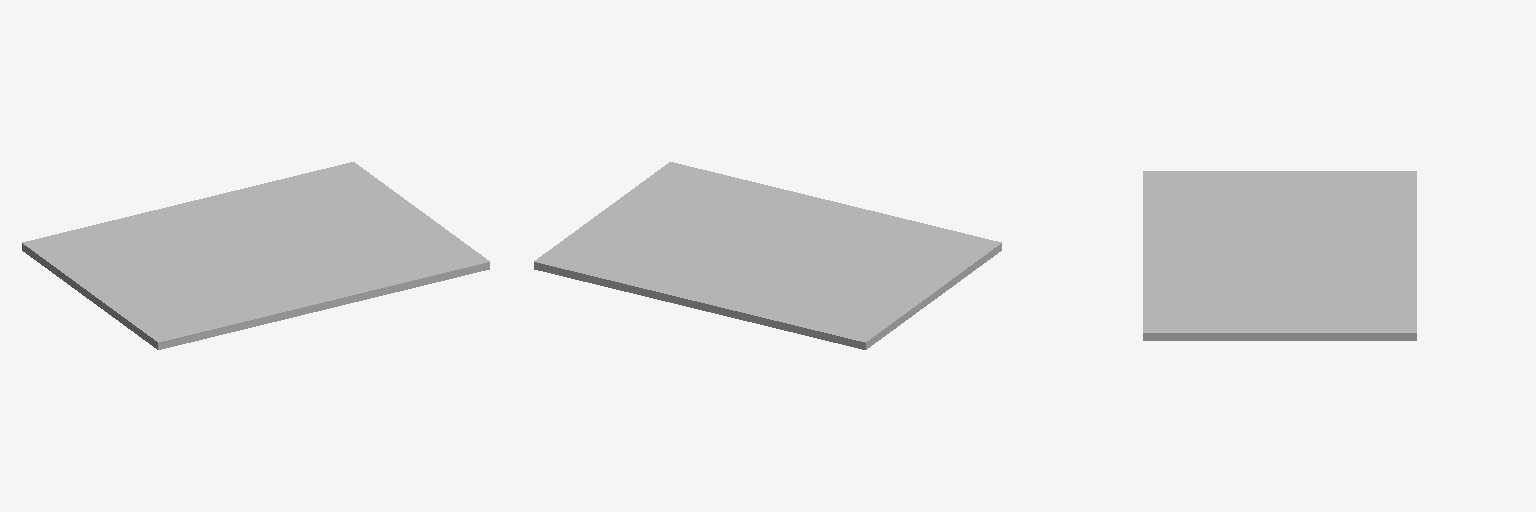
Rendered from box-floor-plan.obj.
3 renders of one model, left to right at view 1: azimuth 30°, elevation 25°; view 2: azimuth 150°, elevation 25°; view 3: azimuth 270°, elevation 25°, orthographic.
Visible parts, largest first — view 1: object_7, object_4, object_6, object_2, object_9, object_3, object_11, object_8, object_1, object_21, object_15; view 2: object_3, object_4, object_2, object_5, object_9, object_8, object_15, object_6, object_1, object_17; view 3: object_4, object_1, object_5, object_3, object_12, object_9, object_7, object_8, object_14, object_2, object_10, object_6 (+1 smaller).
Part boxes in pixels (x1,y1,x2,y2): object_7: (48, 173, 458, 330); object_4: (22, 162, 489, 349); object_6: (73, 167, 474, 336); object_2: (57, 176, 406, 321); object_9: (89, 196, 421, 290); object_3: (29, 166, 481, 338); object_11: (109, 213, 303, 306); object_8: (166, 185, 384, 283); object_1: (48, 171, 419, 331); object_21: (214, 241, 312, 275); object_15: (157, 213, 336, 271); object_3: (541, 165, 993, 339); object_4: (534, 162, 1001, 349); object_2: (623, 177, 965, 328); object_5: (578, 180, 957, 294); object_9: (604, 199, 935, 281); object_8: (608, 185, 943, 319); object_15: (718, 248, 872, 291); object_6: (642, 168, 987, 336); object_1: (640, 173, 979, 334); object_17: (759, 242, 852, 284); object_4: (1143, 171, 1416, 340); object_1: (1158, 177, 1404, 324); object_5: (1172, 184, 1389, 318); object_3: (1148, 174, 1413, 330); object_12: (1205, 203, 1354, 299); object_9: (1188, 203, 1369, 310); object_7: (1162, 182, 1399, 322); object_8: (1180, 189, 1378, 314); object_14: (1217, 215, 1343, 292); object_2: (1169, 182, 1392, 320); object_10: (1194, 203, 1364, 306); object_6: (1152, 176, 1408, 327).
Size of the model in its own units: 488 by 10.67 by 348.